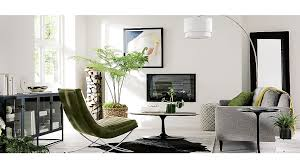Chair: (56, 79, 133, 152), (212, 89, 295, 152)
Lamp: (182, 17, 264, 89)
Table: (131, 107, 197, 142), (240, 105, 276, 155)
